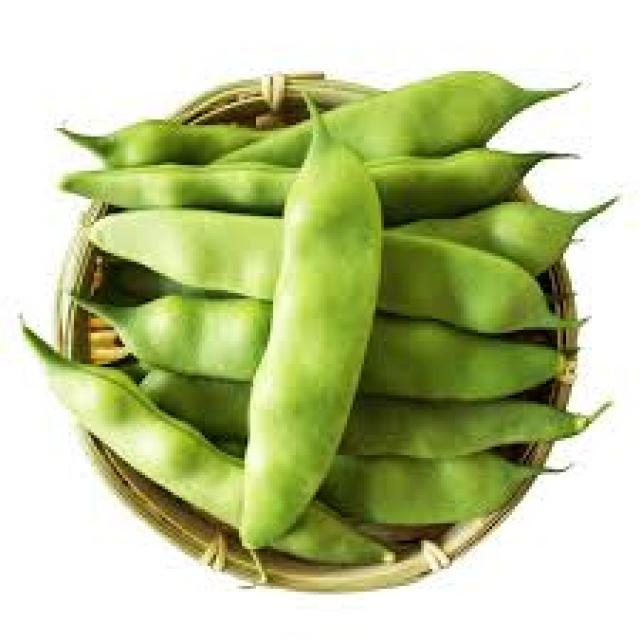organic waste: (17, 310, 387, 563), (230, 85, 382, 555), (85, 208, 589, 347), (68, 290, 569, 398), (117, 364, 606, 455), (57, 145, 577, 219), (205, 68, 577, 151), (208, 438, 563, 523), (390, 191, 617, 270), (57, 116, 270, 168)
